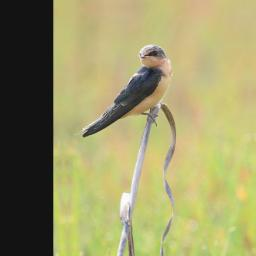Swallow: (66, 38, 177, 143)
